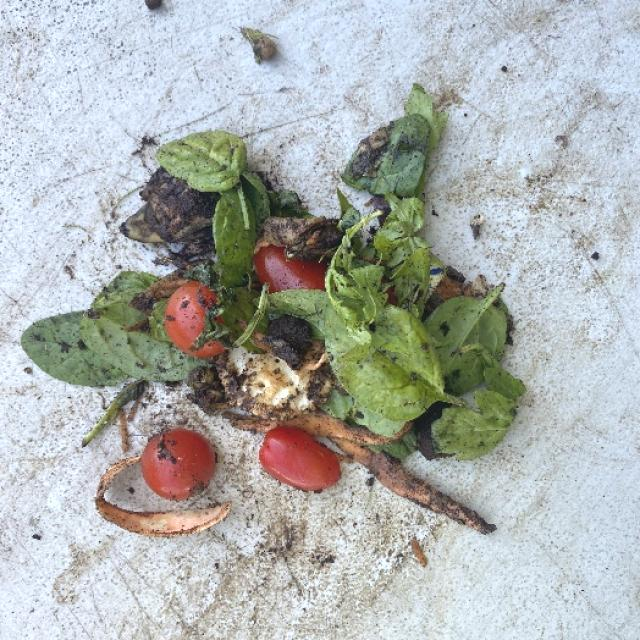organic: (282, 187, 519, 449), (154, 130, 275, 296), (432, 280, 508, 362), (79, 312, 165, 383), (123, 329, 203, 381)
